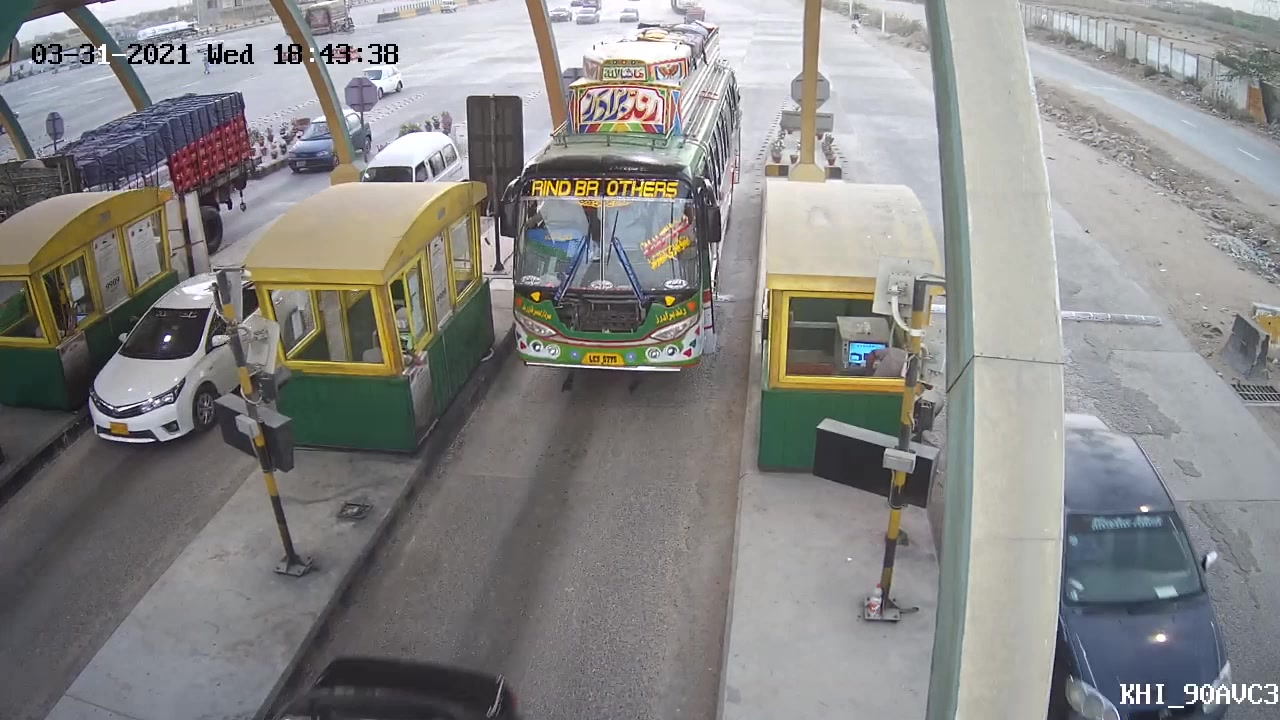F4: (491, 11, 752, 385)
